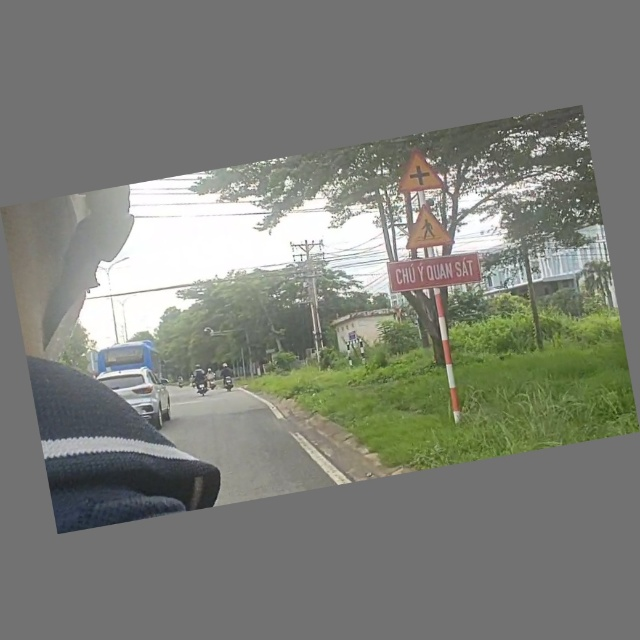W.205a: (391, 143, 457, 198)
W.224: (398, 198, 459, 253)
